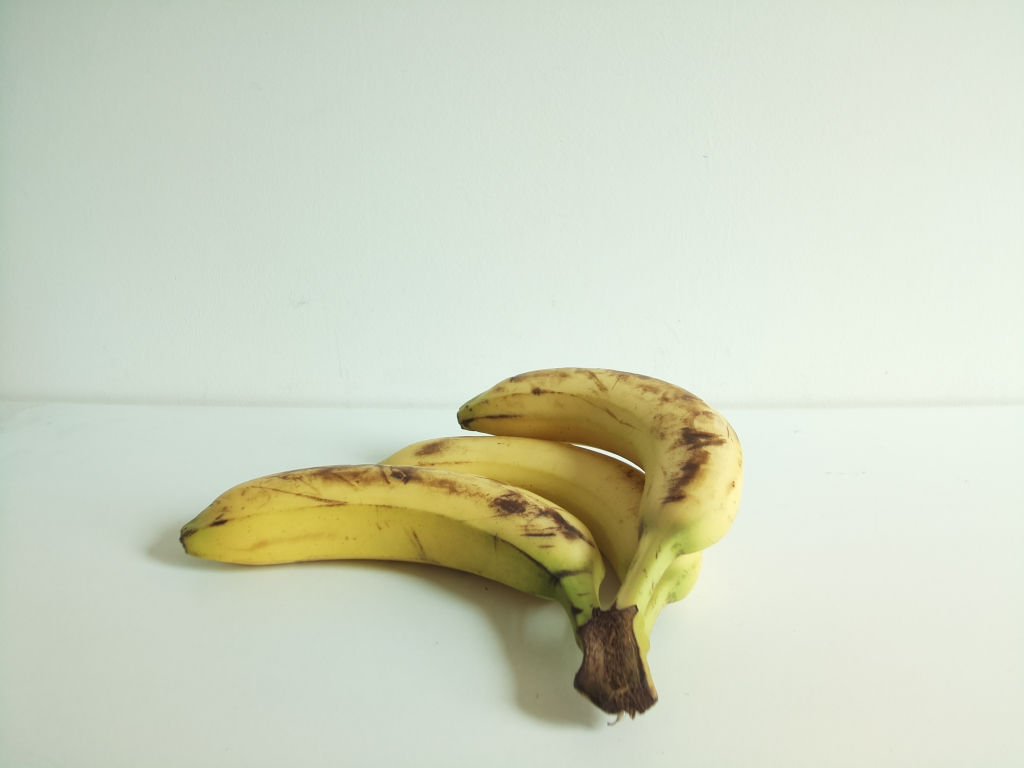banana: (180, 461, 626, 717), (459, 368, 742, 714), (389, 435, 703, 714)
